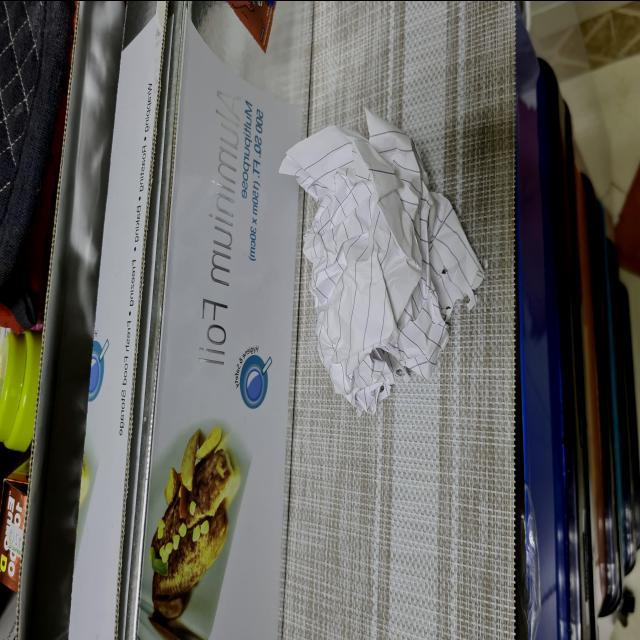Paper: (275, 100, 496, 407)
